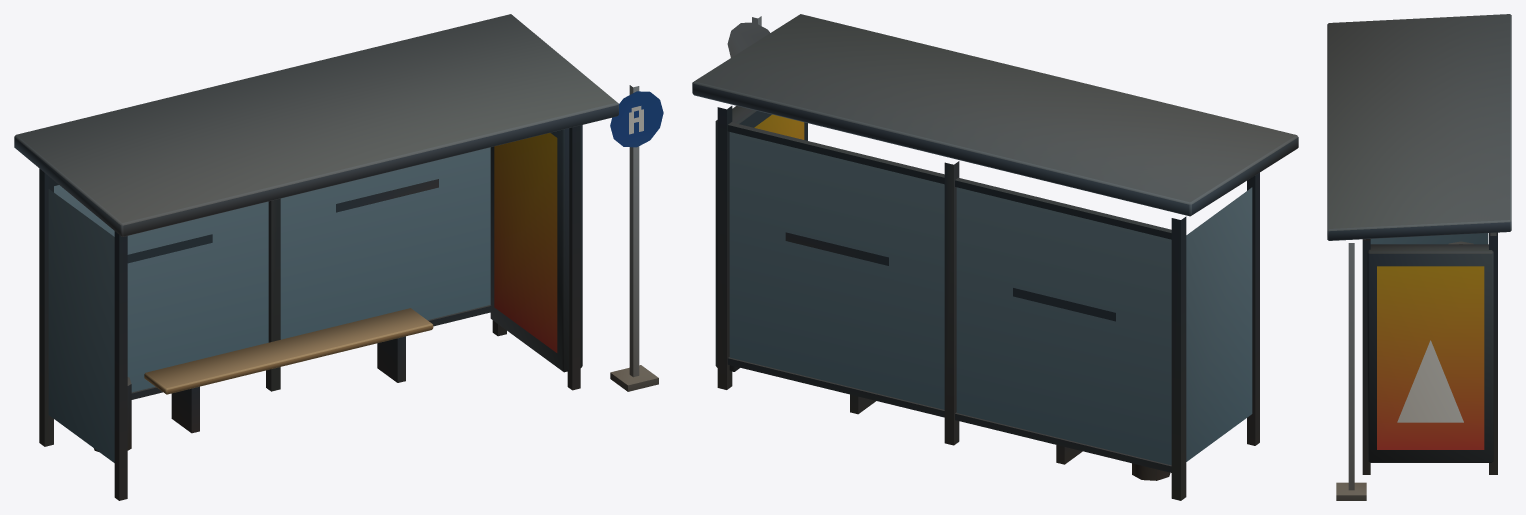
File: bus_stop.glb
3 renders of one model, left to right at view 1: azimuth 30°, elevation 25°; view 2: azimuth 150°, elevation 25°; view 3: azimuth 270°, elevation 25°, orthographic. The views are drawn at different scales.
Visible parts, largest first — view 1: BusStop; view 2: BusStop; view 3: BusStop.
Boxes of the visible parts, x1,y1,x2,y2 form: BusStop: [14, 14, 663, 500]; BusStop: [692, 14, 1298, 500]; BusStop: [1327, 14, 1511, 500].
Size of the model in its own units: 5.38 by 2.85 by 1.82.
